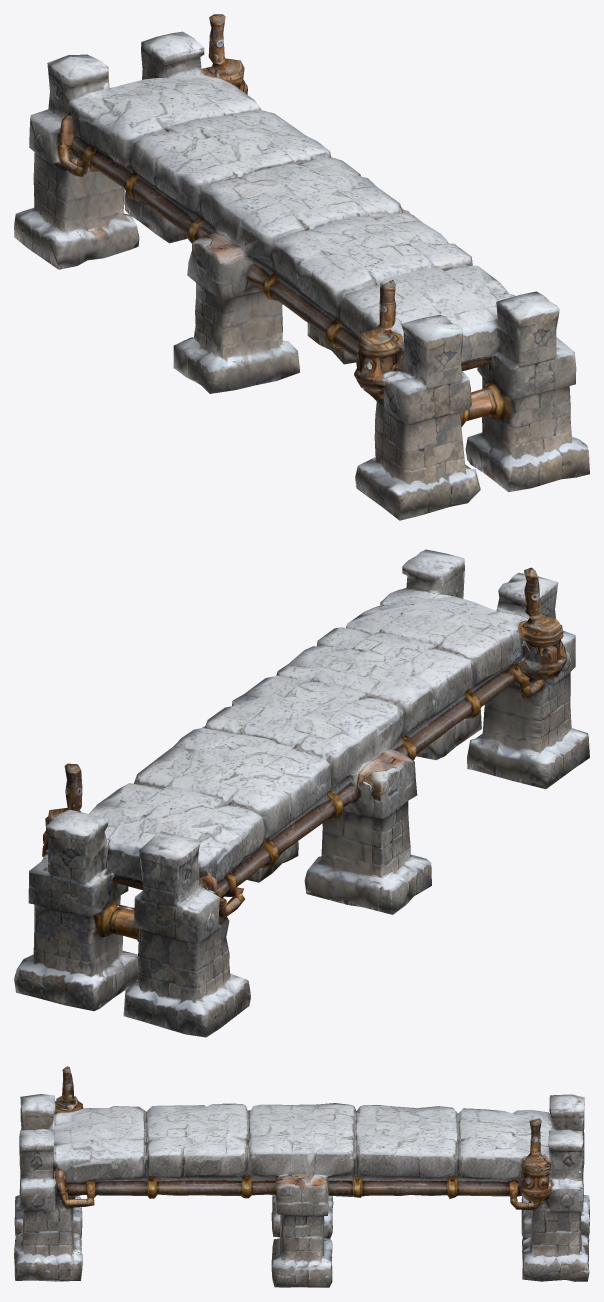
File: PR_StoneBridge.fbx
The picture shows the model from 3 angles, top to bottom: view 1: azimuth 30°, elevation 25°; view 2: azimuth 150°, elevation 25°; view 3: azimuth 270°, elevation 25°; orthographic projection. The views are drawn at different scales.
Visible parts, largest first — view 1: texture_mapping; view 2: texture_mapping; view 3: texture_mapping.
Boxes of the visible parts, x1,y1,x2,y2 form: texture_mapping: (14, 14, 589, 520); texture_mapping: (14, 549, 589, 1037); texture_mapping: (14, 1066, 589, 1287).
Bounding box in the file's own units: 0.3351 × 1 × 0.2977.
1 material, 1 textured.
